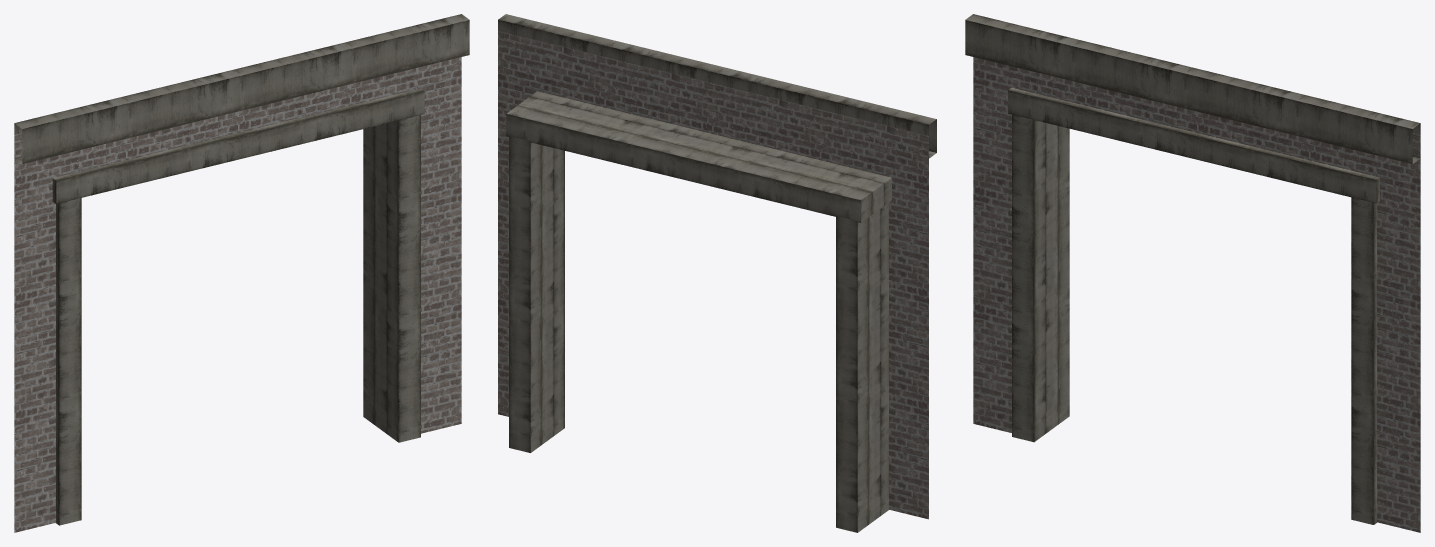
Rendered from W_A_DoorOpen_4x_COL.FBX.
3 views of the same model, side by side, from view 1: azimuth 30°, elevation 25°; view 2: azimuth 150°, elevation 25°; view 3: azimuth 330°, elevation 25° (orthographic). The views are drawn at different scales.
Visible parts, largest first — view 1: W_A_DoorOpen_4x_COL; view 2: W_A_DoorOpen_4x_COL; view 3: W_A_DoorOpen_4x_COL.
Part boxes in pixels (<box>): W_A_DoorOpen_4x_COL: <box>14,14,469,532</box>; W_A_DoorOpen_4x_COL: <box>498,14,936,532</box>; W_A_DoorOpen_4x_COL: <box>965,14,1420,532</box>.
Bounding box in the file's own units: 400 × 350 × 62.56.
